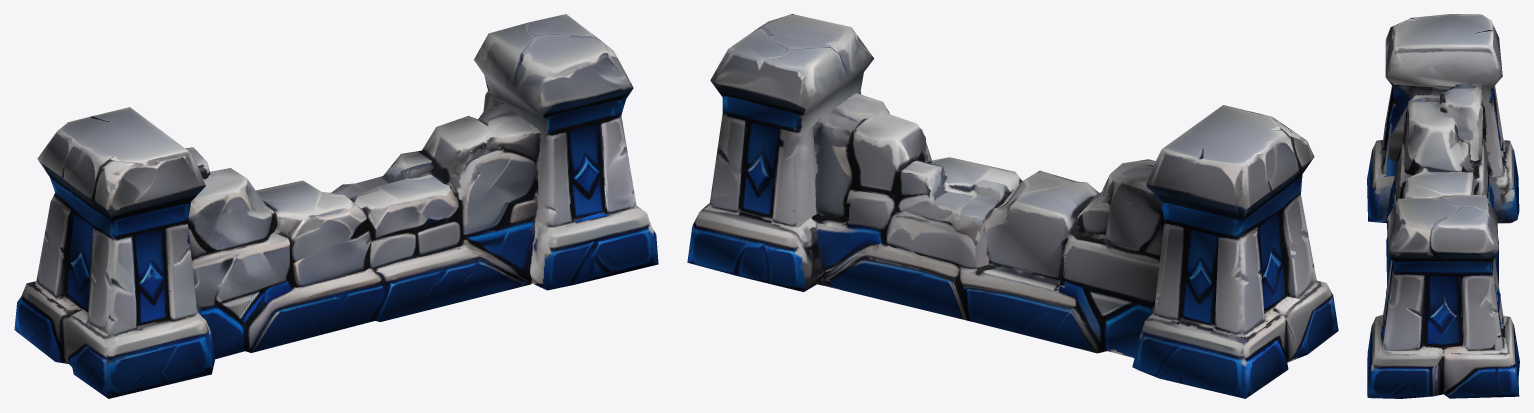
The model's file is ruins-broken-wall-cover_LOD2.glb.
The picture shows the model from 3 angles, left to right: view 1: azimuth 30°, elevation 25°; view 2: azimuth 150°, elevation 25°; view 3: azimuth 270°, elevation 25°; orthographic projection. The views are drawn at different scales.
Parts seen in each view (by area): view 1: ruins-broken-wall-cover_LOD2; view 2: ruins-broken-wall-cover_LOD2; view 3: ruins-broken-wall-cover_LOD2.
Part boxes in pixels (<box>): ruins-broken-wall-cover_LOD2: <box>14,14,658,398</box>; ruins-broken-wall-cover_LOD2: <box>687,14,1338,398</box>; ruins-broken-wall-cover_LOD2: <box>1367,14,1519,398</box>.
Size of the model in its own units: 2.95 by 1.1 by 0.8672.
1 material, 1 textured.
